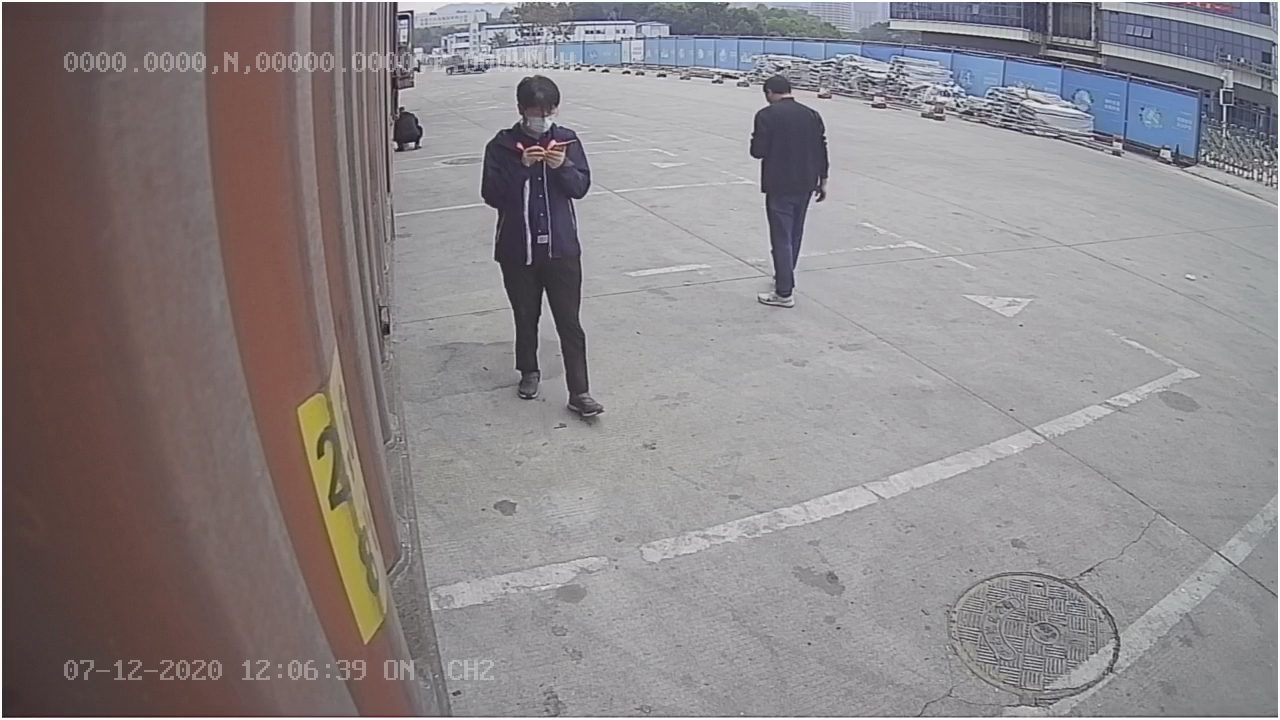person: (482, 73, 608, 417), (743, 70, 833, 311)
